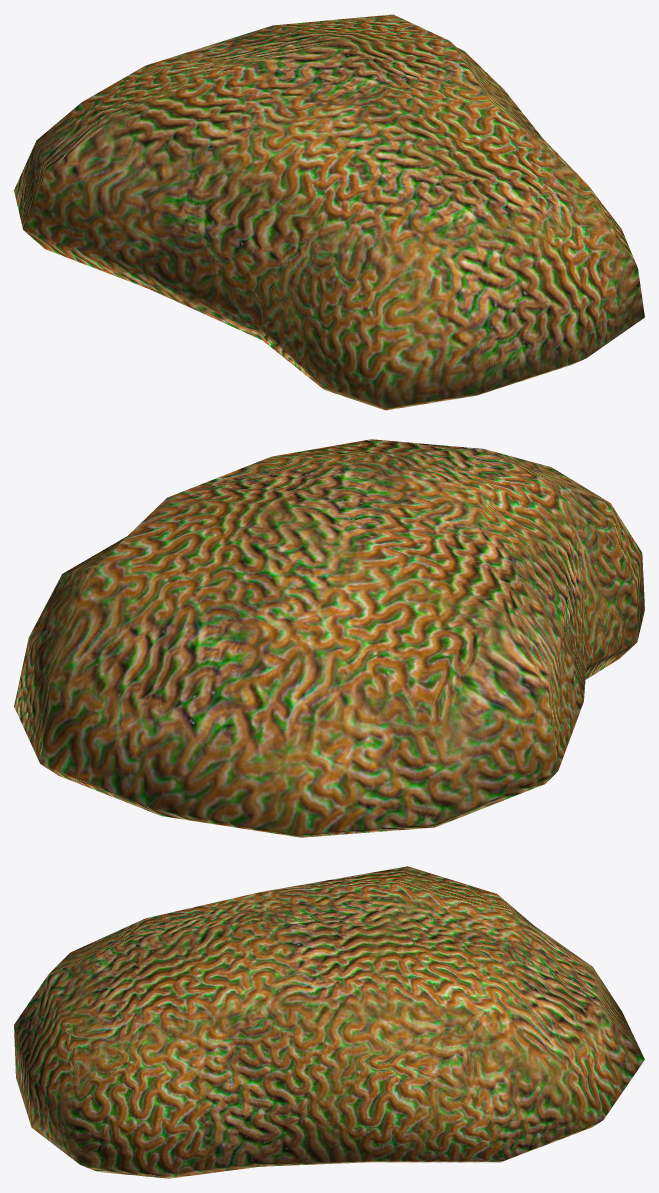
Rendered from Coral_03.fbx.
The picture shows the model from 3 angles, top to bottom: view 1: azimuth 30°, elevation 25°; view 2: azimuth 150°, elevation 25°; view 3: azimuth 270°, elevation 25°; orthographic projection. The views are drawn at different scales.
Visible parts, largest first — view 1: Coral_03; view 2: Coral_03; view 3: Coral_03.
Boxes of the visible parts, x1=… form: Coral_03: x1=14, y1=14, x2=644, y2=410; Coral_03: x1=14, y1=439, x2=644, y2=837; Coral_03: x1=14, y1=866, x2=644, y2=1178.
Size of the model in its own units: 0.7271 by 0.3135 by 0.9527.
